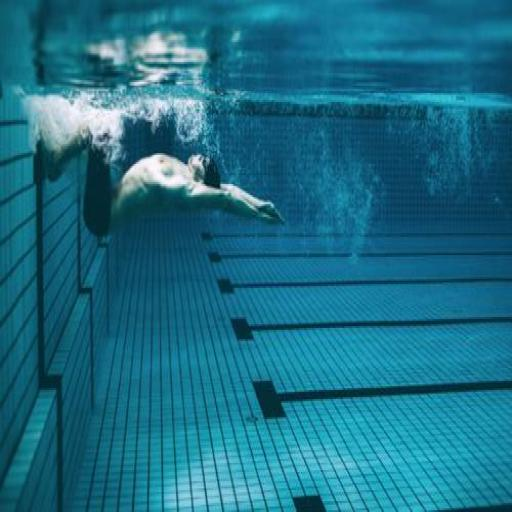swimming: (81, 137, 286, 242)
